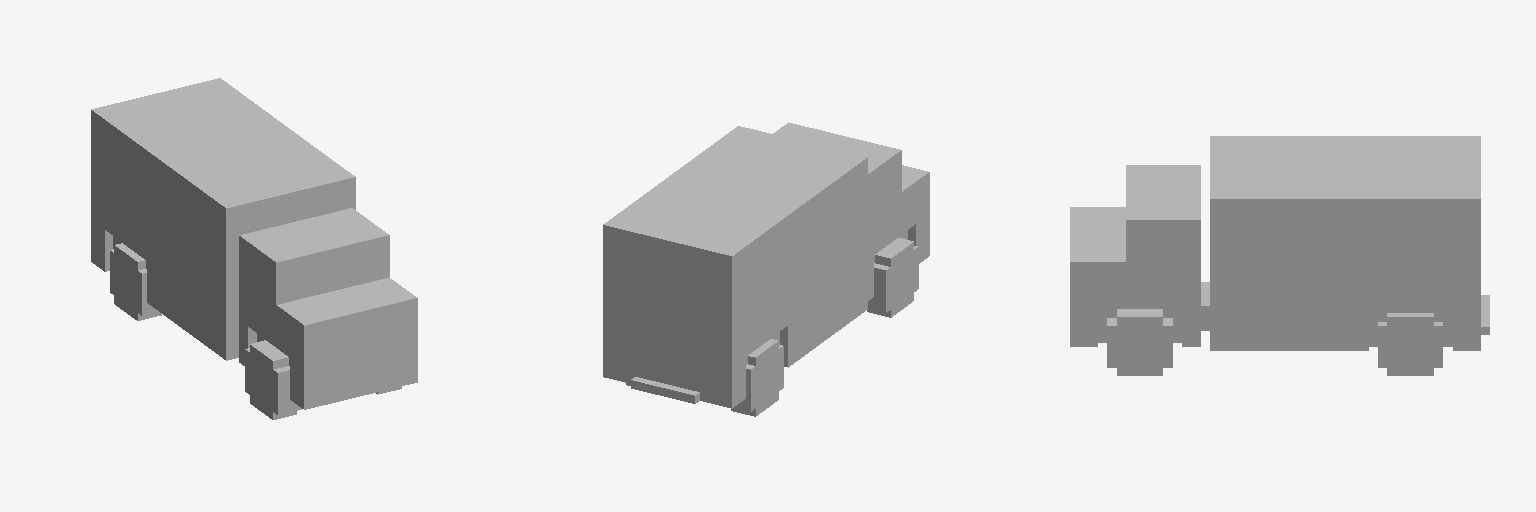
File: car.obj
3 renders of one model, left to right at view 1: azimuth 30°, elevation 25°; view 2: azimuth 150°, elevation 25°; view 3: azimuth 270°, elevation 25°, orthographic.
Bounding box in the file's own units: 16 × 21 × 45.